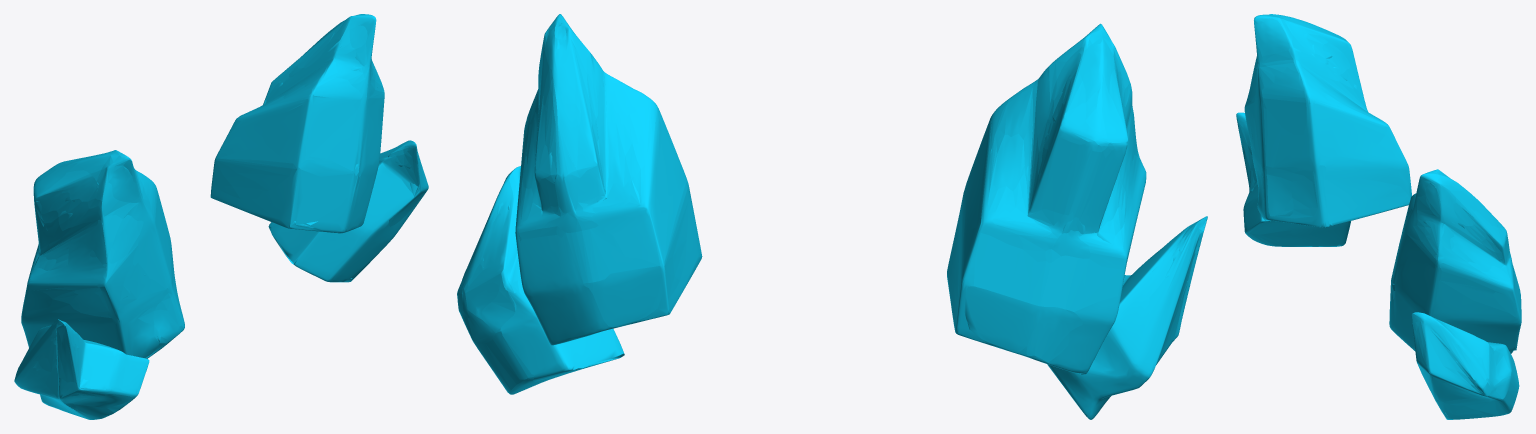
3 renders of one model, left to right at view 1: azimuth 30°, elevation 25°; view 2: azimuth 150°, elevation 25°; view 3: azimuth 270°, elevation 25°, orthographic. The views are drawn at different scales.
Parts seen in each view (by area): view 1: ear_crystal02; view 2: ear_crystal02; view 3: ear_crystal02.
Part boxes in pixels (x1,y1,x2,y2): ear_crystal02: (14, 14, 428, 419); ear_crystal02: (457, 14, 1207, 419); ear_crystal02: (1236, 14, 1521, 419).
Bounding box in the file's own units: 98.62 × 56.22 × 56.01.
